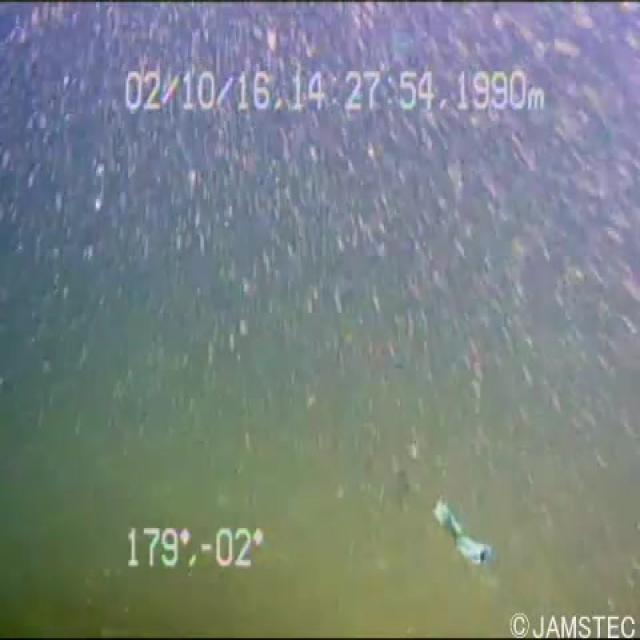plastic: (419, 462, 504, 572)
